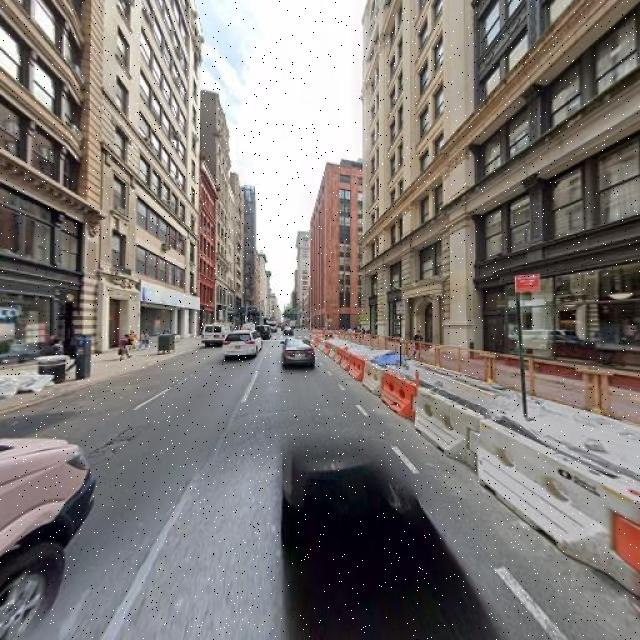Building: (367, 1, 640, 393), (1, 1, 82, 363)
